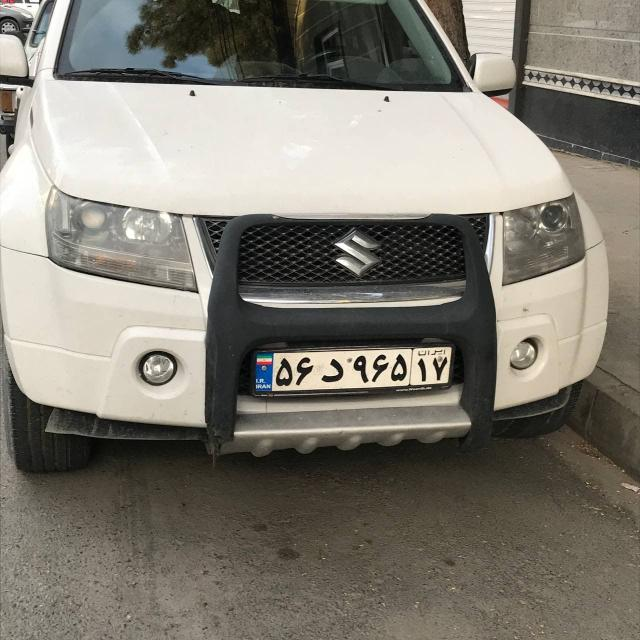Plates: (253, 345, 454, 392)
